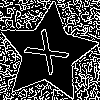X: (23, 28, 78, 83)
